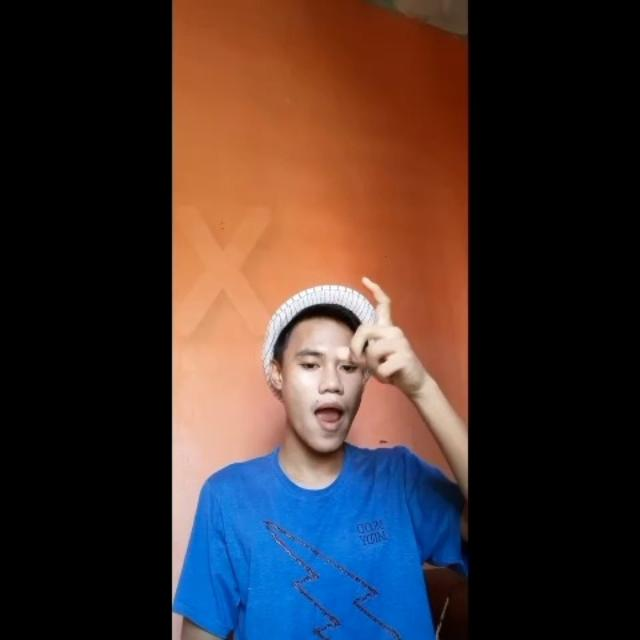X: (336, 271, 430, 401)
